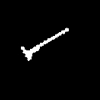half_double_crochet: (21, 28, 68, 60)
